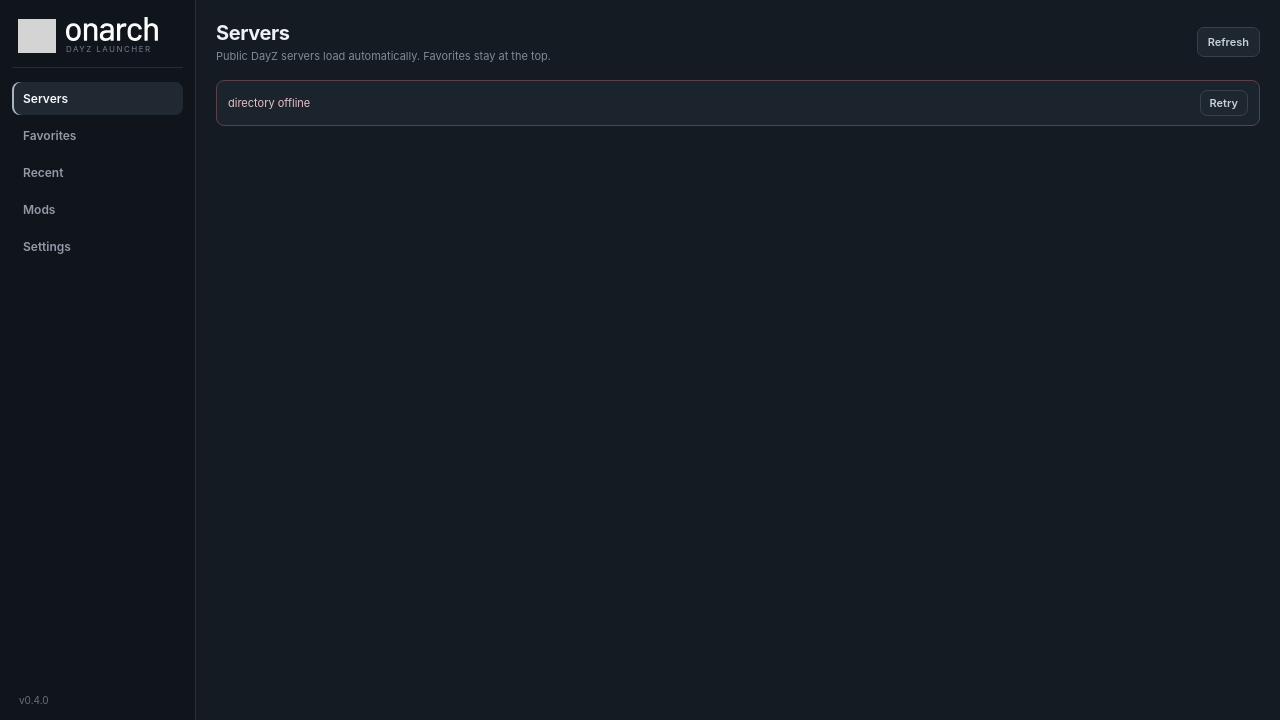
Scenario: shows a real server-directory error and retries
This screenshot has width=1280, height=720.
Expected: the text "directory offline" is shown, [228, 96, 310, 110]
Click the button "Retry": [1224, 103] box [1200, 90, 1248, 116]
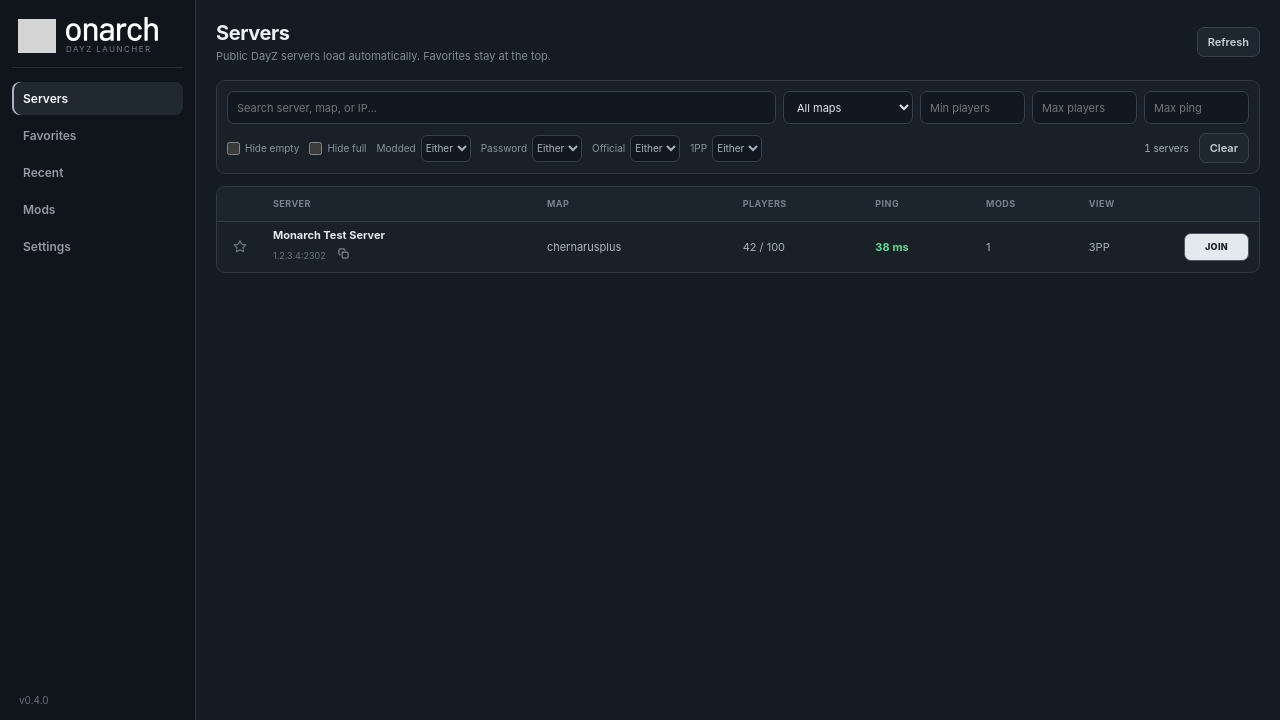
Now the text "Monarch Test Server" is shown, box [273, 228, 385, 242]
